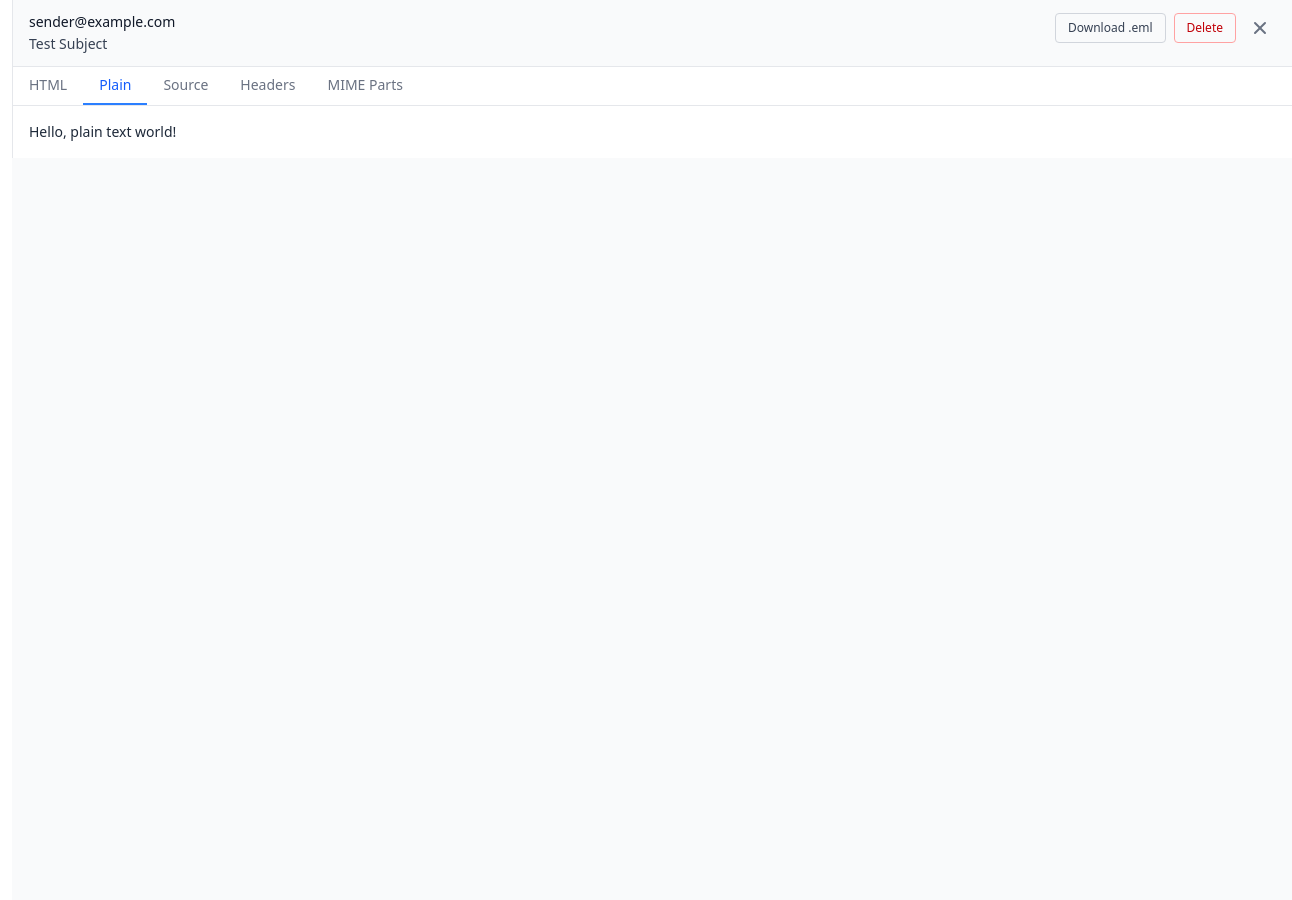
Test case: MessageDetail: Source tab › shows truncation notice and download link when source exceeds 256 KB
Click the tab with test id "tab-source" at (186, 86), box left=147, top=67, right=224, bottom=105
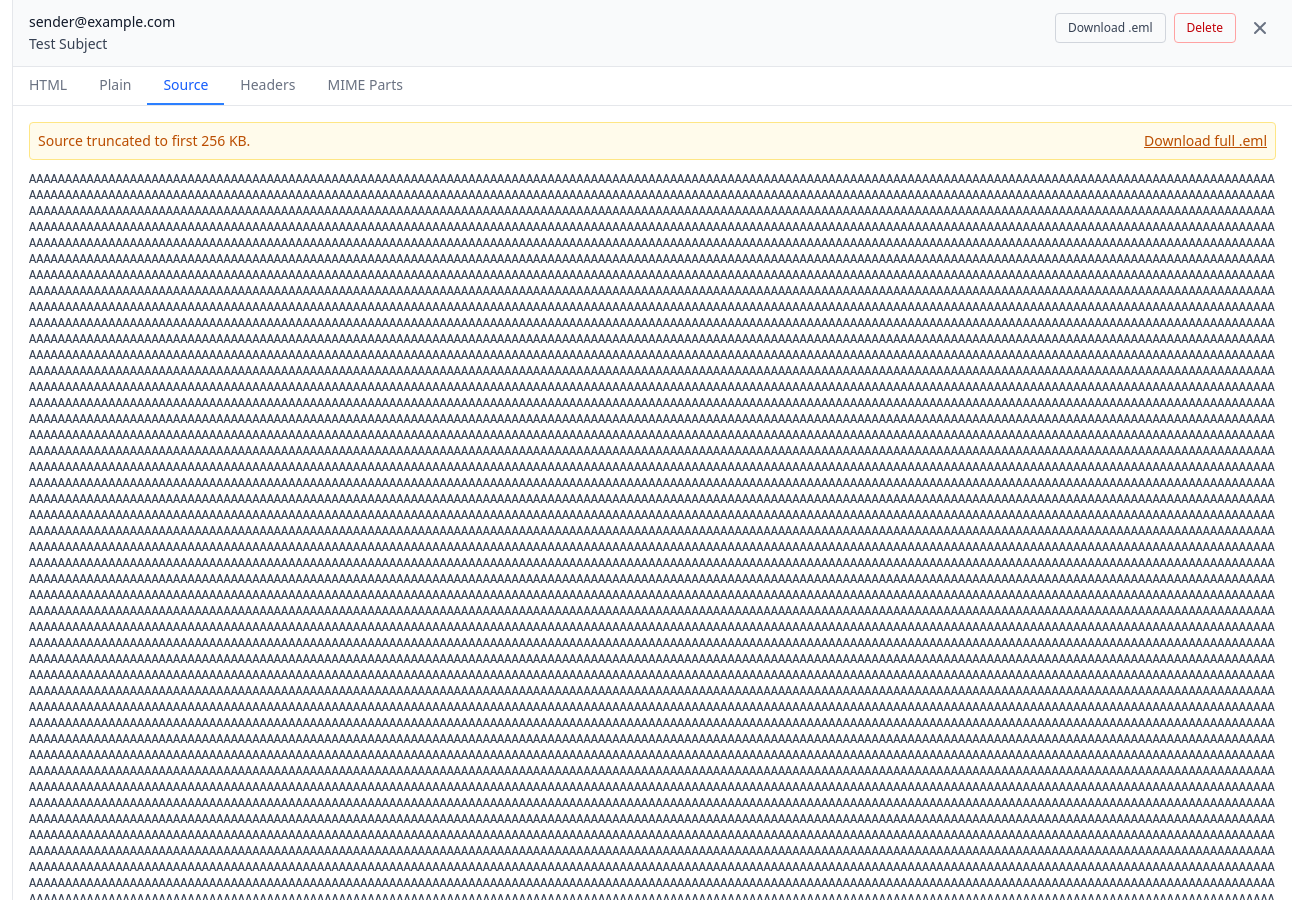
Now the text "Source truncated to first 256 KB." is shown, box left=38, top=131, right=250, bottom=151
